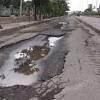Pothole: (0, 28, 74, 84)
